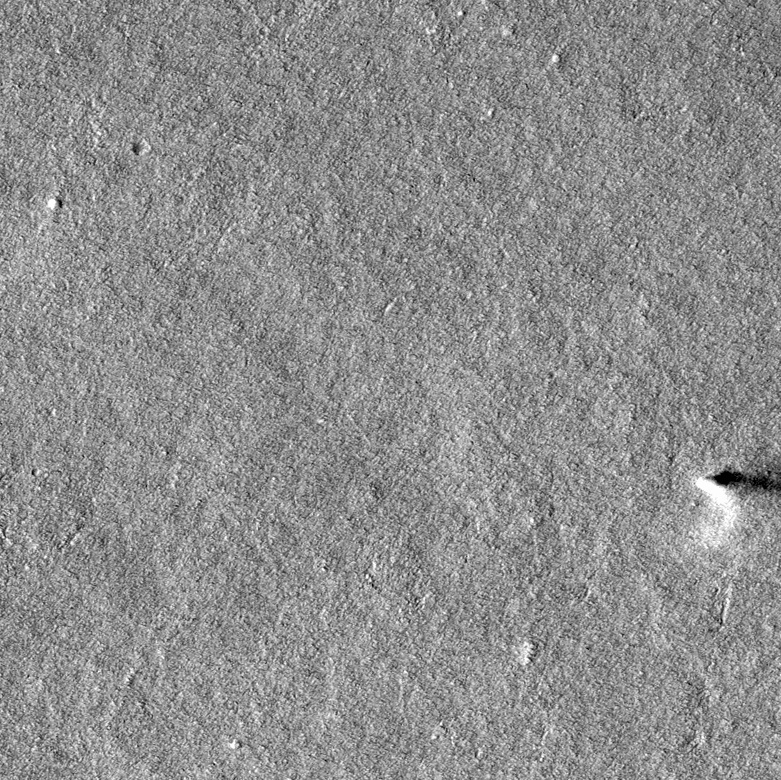dust_devil: (691, 466, 781, 548)
